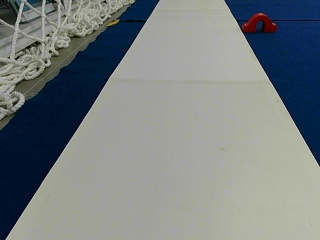bridge: (243, 13, 277, 31)
